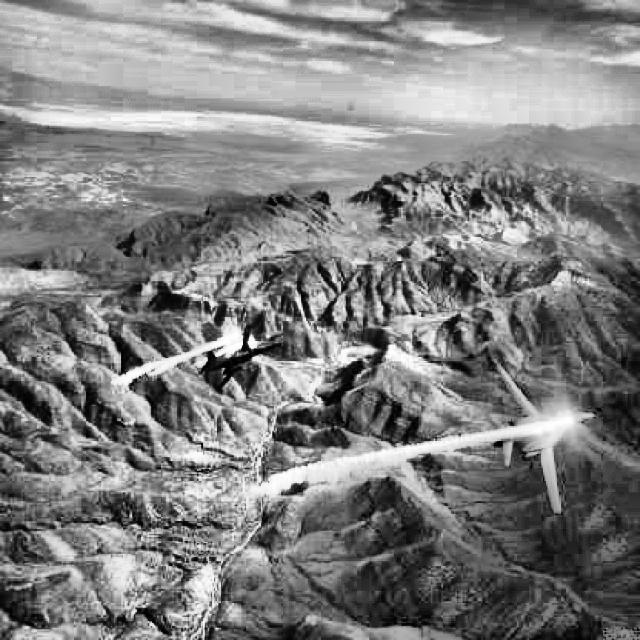B1: (486, 365, 594, 513), (198, 324, 282, 391)
